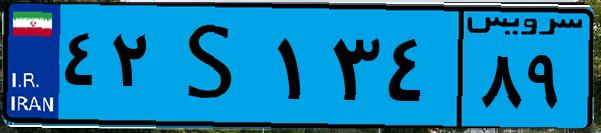1: (270, 28, 330, 110)
2: (110, 28, 158, 98)
3: (330, 28, 385, 110)
4: (385, 28, 445, 110), (57, 26, 110, 100)
8: (475, 38, 525, 113)
9: (525, 38, 570, 115)
S: (158, 12, 270, 120)
